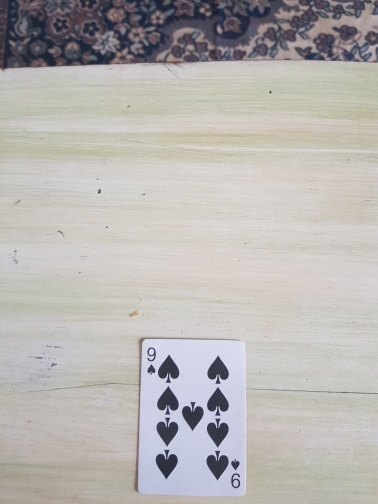nine: (136, 338, 247, 497)
